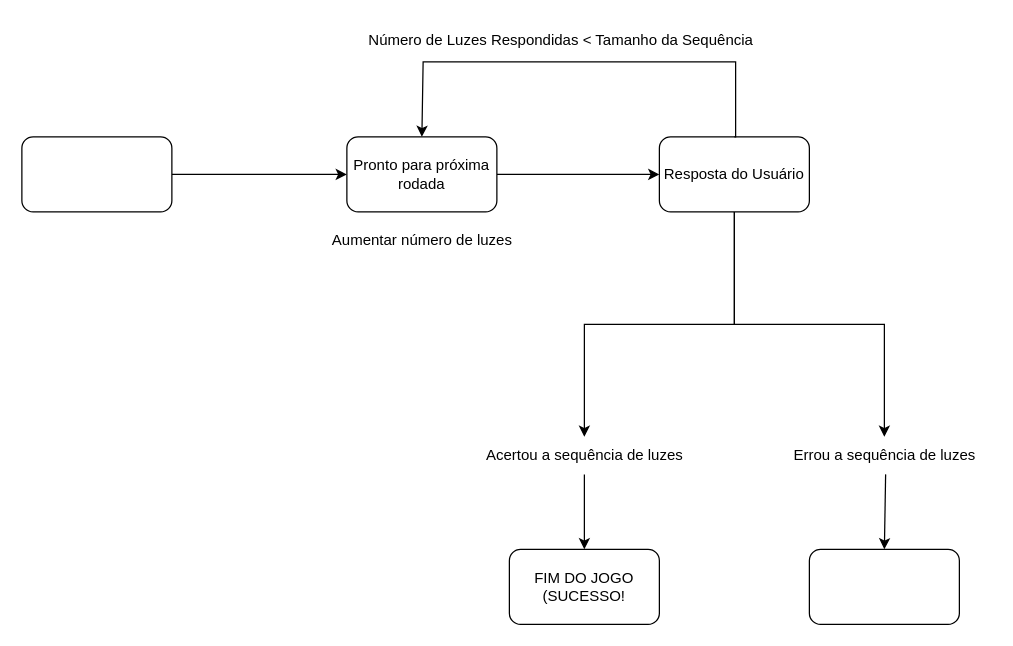
The diagram is 1013 pixels wide and 646 high, and some of its shapes have lost their labels. The shapes that lost their labels are listed below. From the top down, each one's centre as x and y in pixels, then its label:
At (x=96, y=174): "Setup".
At (x=883, y=586): "FIM DO JOGO (FALHA)!".
